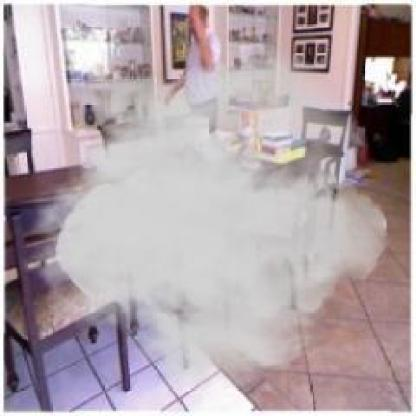Smoke: (19, 46, 388, 394)
